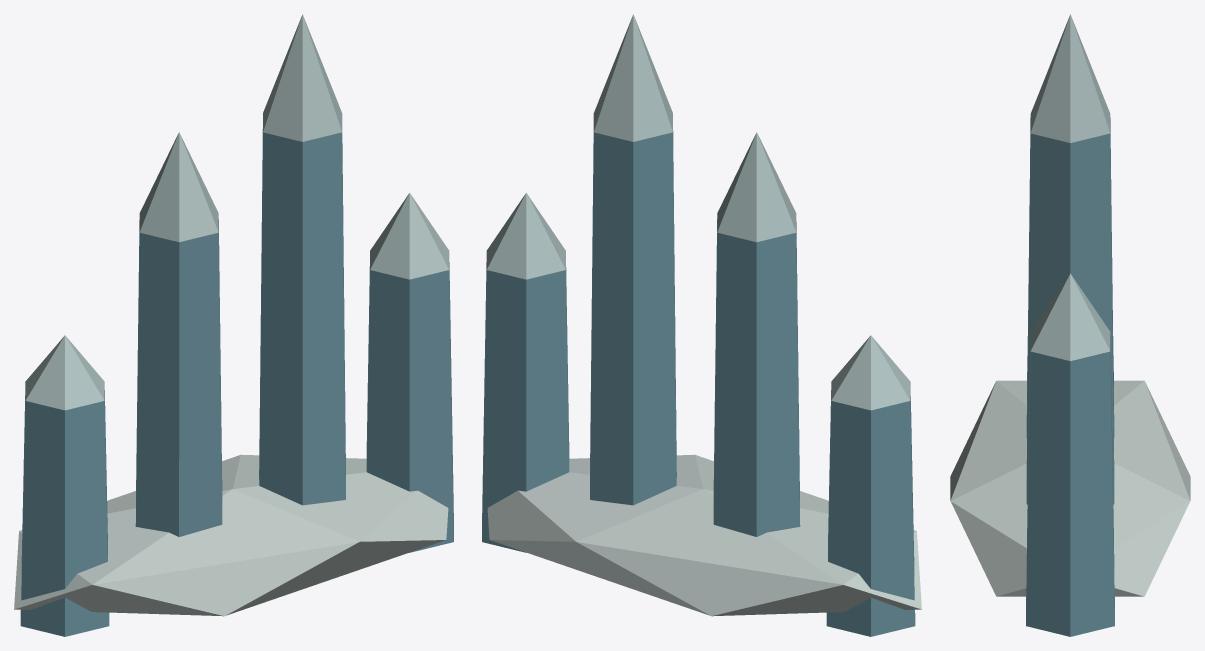
File: map-exclusive-v3__frost_03.glb
3 views of the same model, side by side, from view 1: azimuth 30°, elevation 25°; view 2: azimuth 150°, elevation 25°; view 3: azimuth 270°, elevation 25° (orthographic).
Parts seen in each view (by area): view 1: frost_03; view 2: frost_03; view 3: frost_03.
Boxes of the visible parts, box(x1,y1,x2,y2) form: frost_03: box(14, 14, 453, 636); frost_03: box(482, 14, 921, 636); frost_03: box(950, 14, 1190, 636).
Size of the model in its own units: 1.89 by 2.26 by 0.8847.
